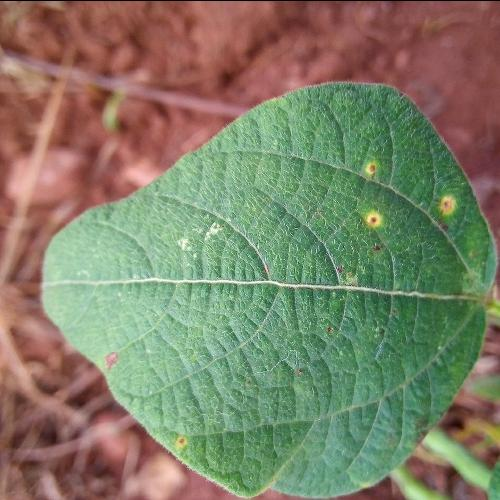hawar: (101, 342, 132, 379)
mozaik: (85, 209, 476, 437)
